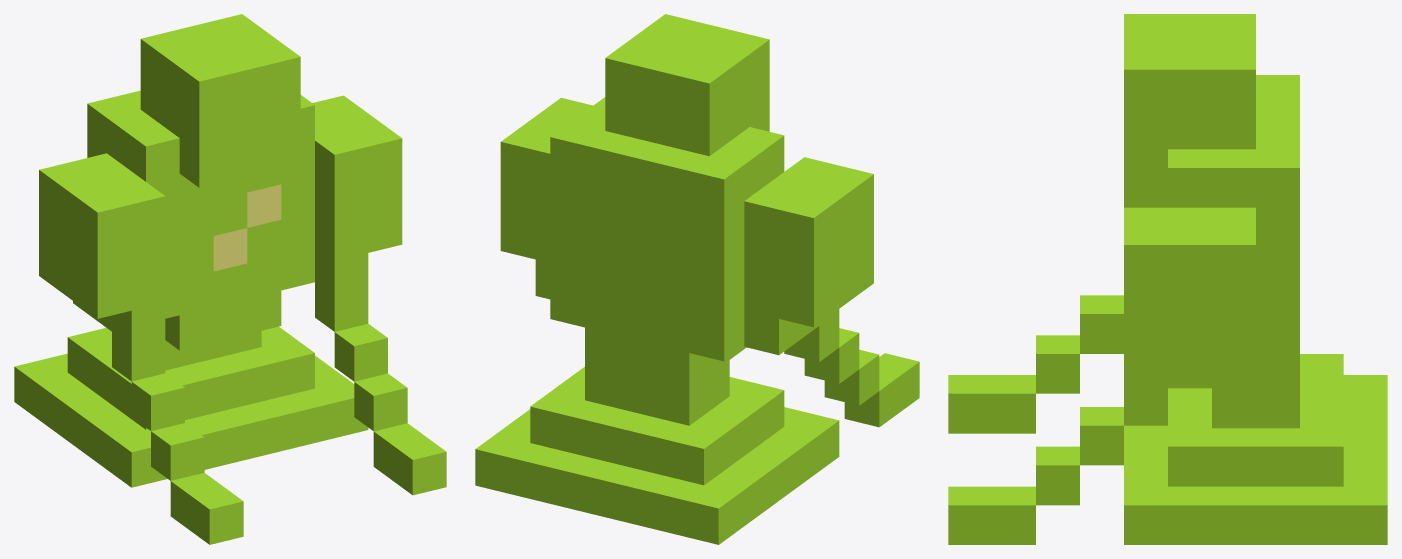
The model's file is slob_a_action_1.obj.
The picture shows the model from 3 angles, left to right: view 1: azimuth 30°, elevation 25°; view 2: azimuth 150°, elevation 25°; view 3: azimuth 270°, elevation 25°; orthographic projection. The views are drawn at different scales.
Bounding box in the file's own units: 0.9 × 1.1 × 1.
1 material, 1 textured.
